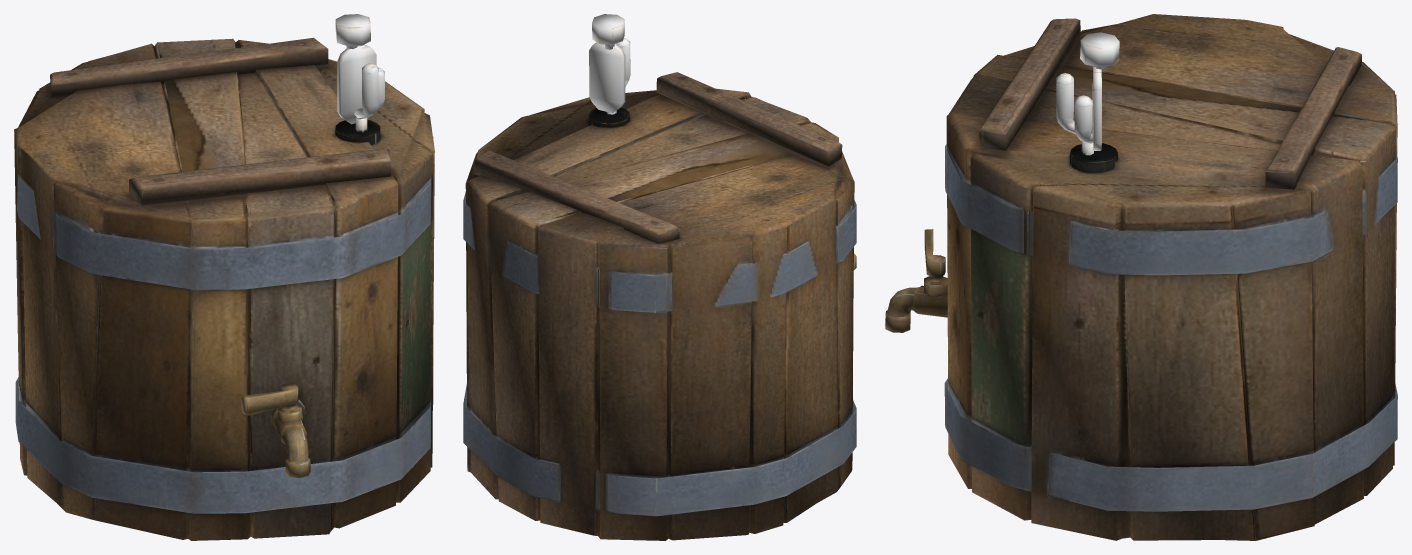
File: Fermenter.fbx
3 views of the same model, side by side, from view 1: azimuth 30°, elevation 25°; view 2: azimuth 150°, elevation 25°; view 3: azimuth 270°, elevation 25° (orthographic). The views are drawn at different scales.
Visible parts, largest first — view 1: tripo_node_0e45e648; view 2: tripo_node_0e45e648; view 3: tripo_node_0e45e648.
Boxes of the visible parts, x1,y1,x2,y2 form: tripo_node_0e45e648: [14, 14, 434, 540]; tripo_node_0e45e648: [463, 14, 856, 540]; tripo_node_0e45e648: [885, 14, 1397, 540].
Bounding box in the file's own units: 0.8599 × 0.9995 × 0.9966.
